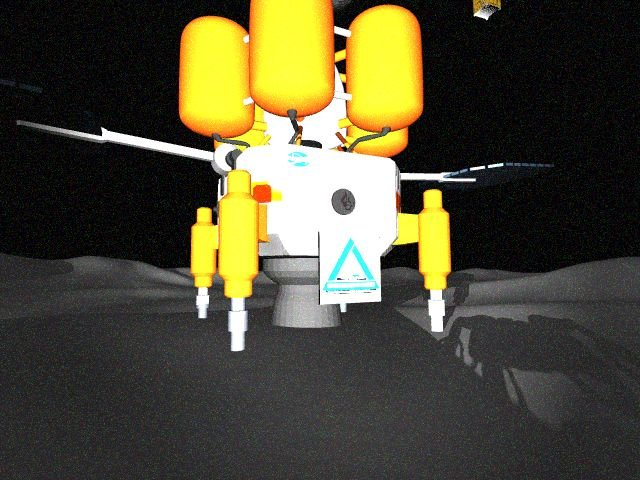basemarker: (320, 235, 383, 293)
